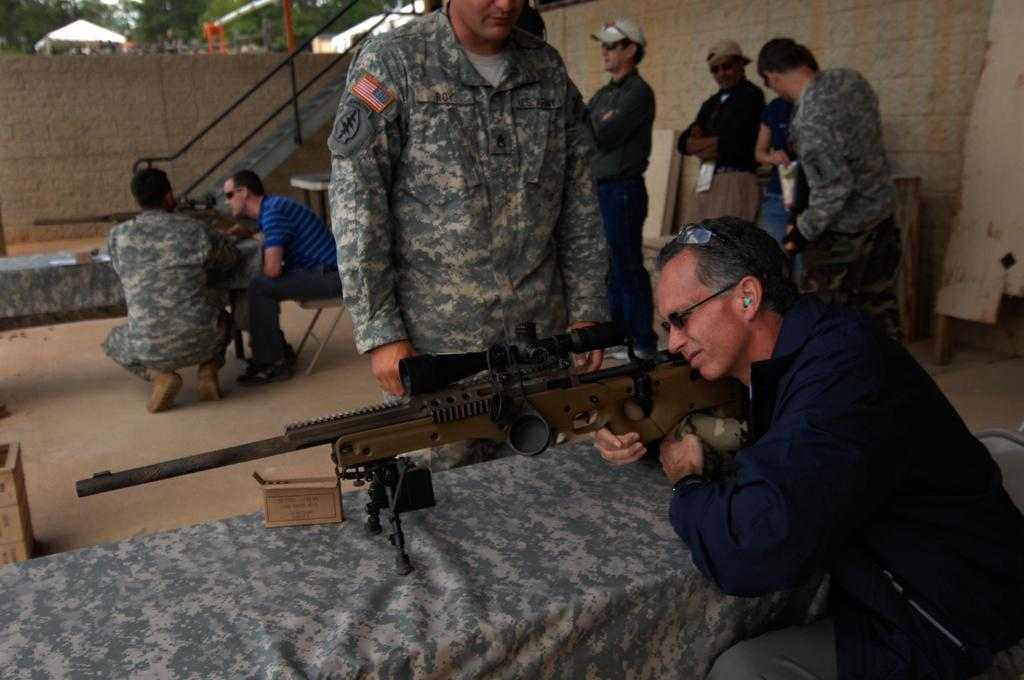gun: (78, 324, 692, 513)
